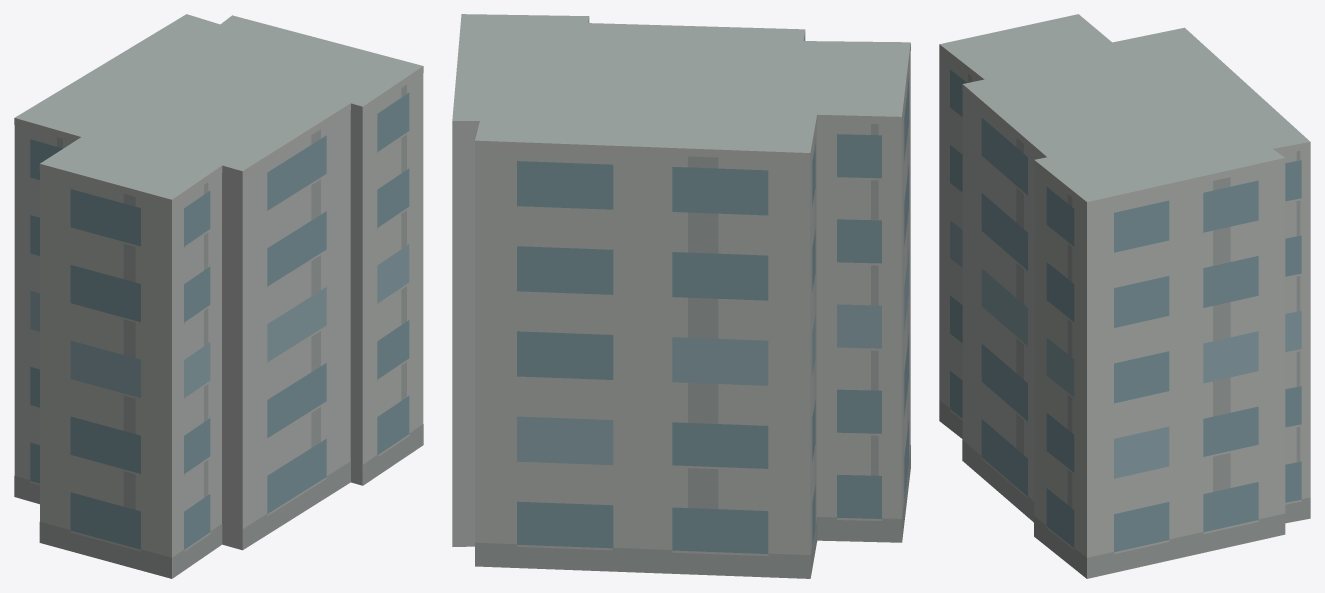
Rendered from survey-upis-32976775.glb.
The picture shows the model from 3 angles, left to right: view 1: azimuth 30°, elevation 25°; view 2: azimuth 150°, elevation 25°; view 3: azimuth 270°, elevation 25°; orthographic projection. The views are drawn at different scales.
Parts seen in each view (by area): view 1: survey-upis-32976775.tmp; view 2: survey-upis-32976775.tmp; view 3: survey-upis-32976775.tmp.
Boxes of the visible parts, x1,y1,x2,y2 form: survey-upis-32976775.tmp: [14, 14, 423, 578]; survey-upis-32976775.tmp: [452, 14, 910, 578]; survey-upis-32976775.tmp: [939, 14, 1310, 578].
Size of the model in its own units: 14.04 by 13.1 by 11.71.
